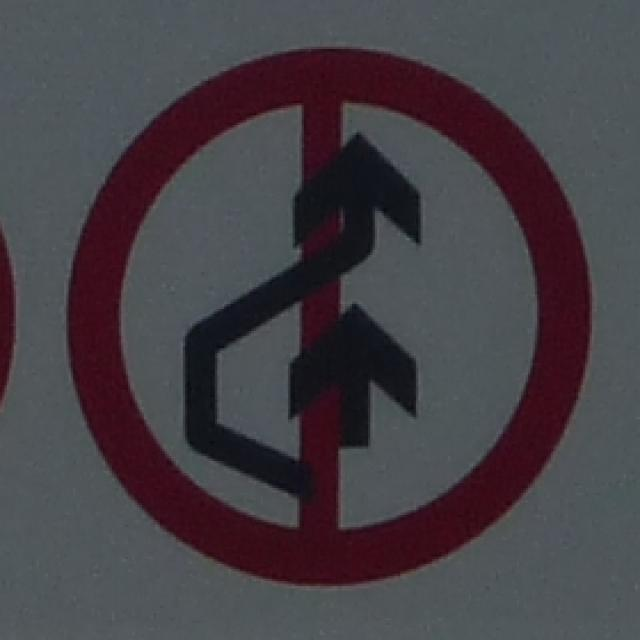Not that Direction: (71, 46, 594, 588)
